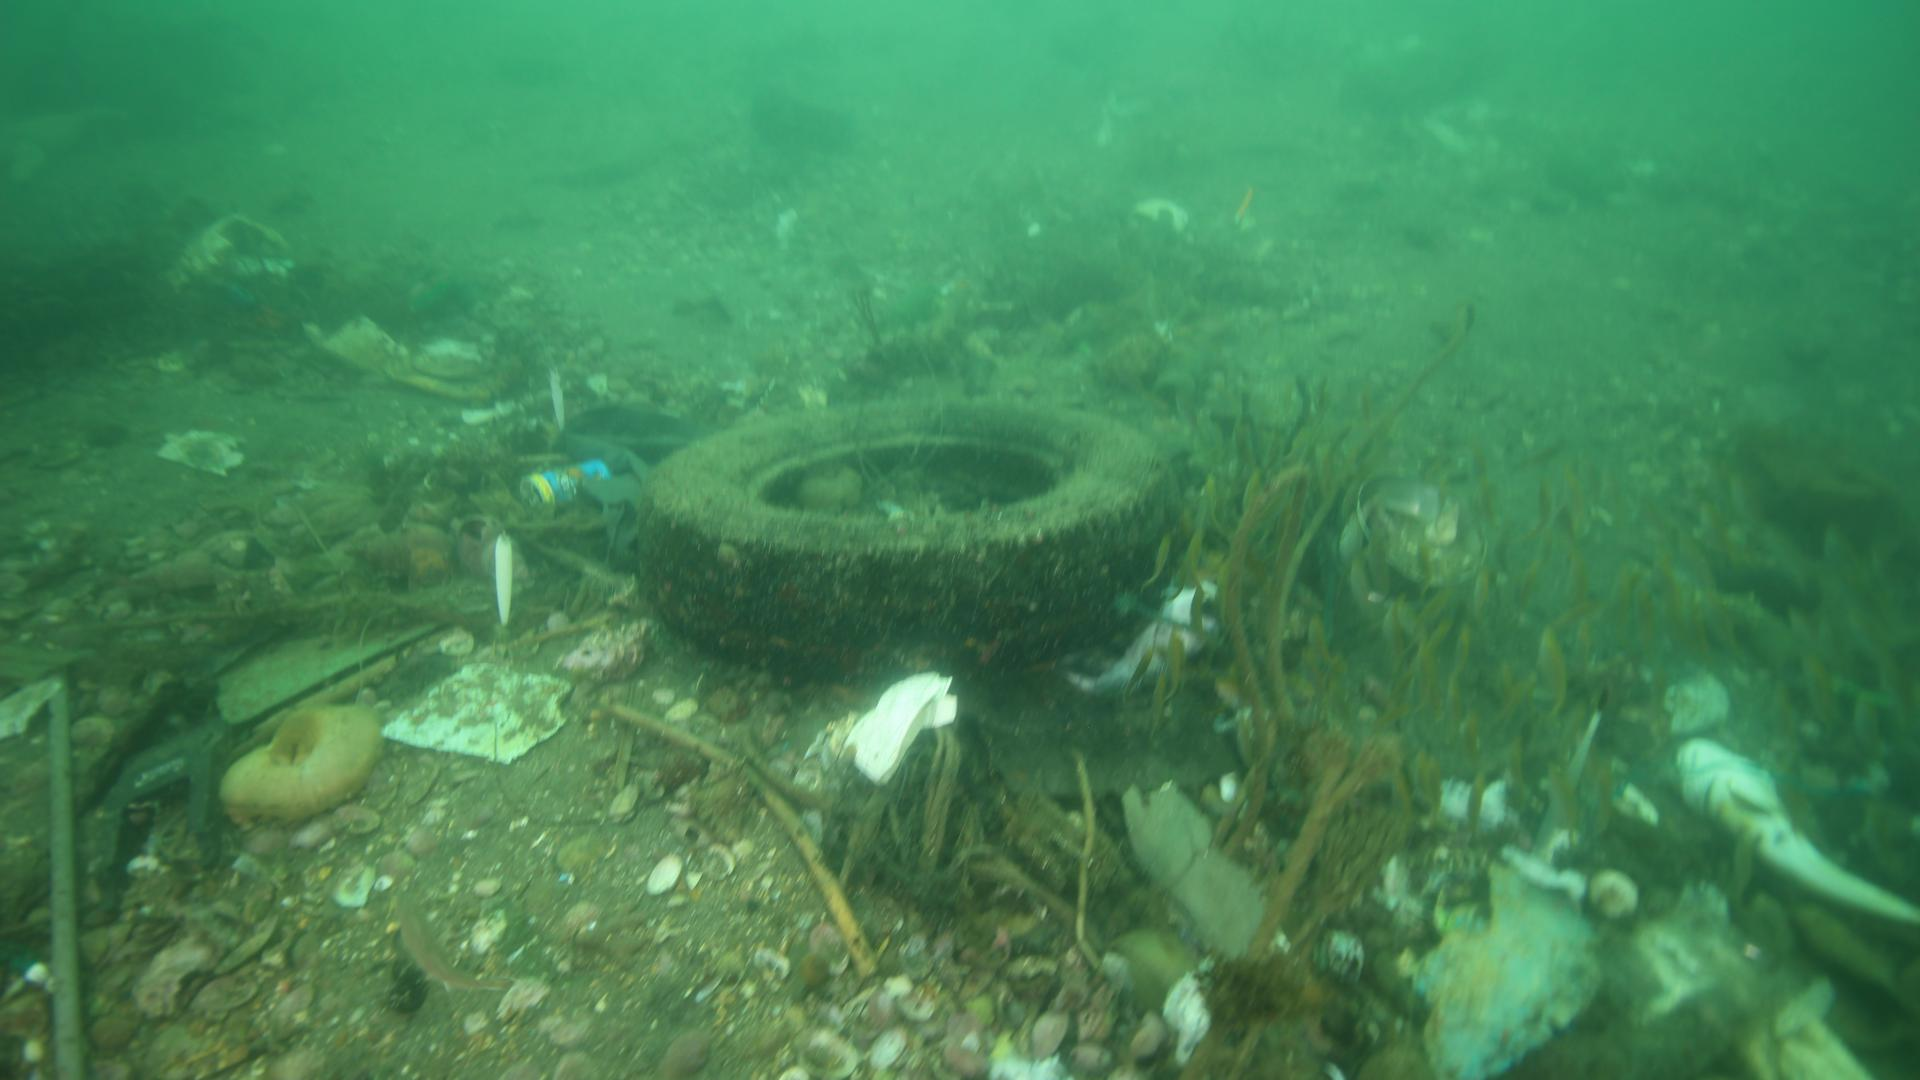tire: (628, 386, 1176, 684)
